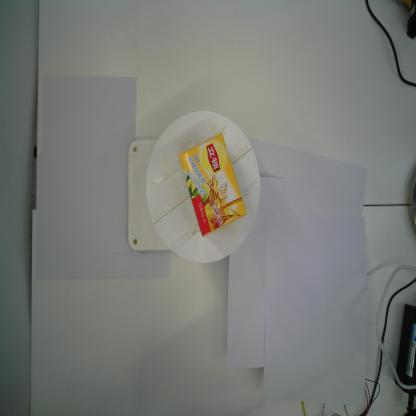Instant Drink: (178, 132, 248, 238)
